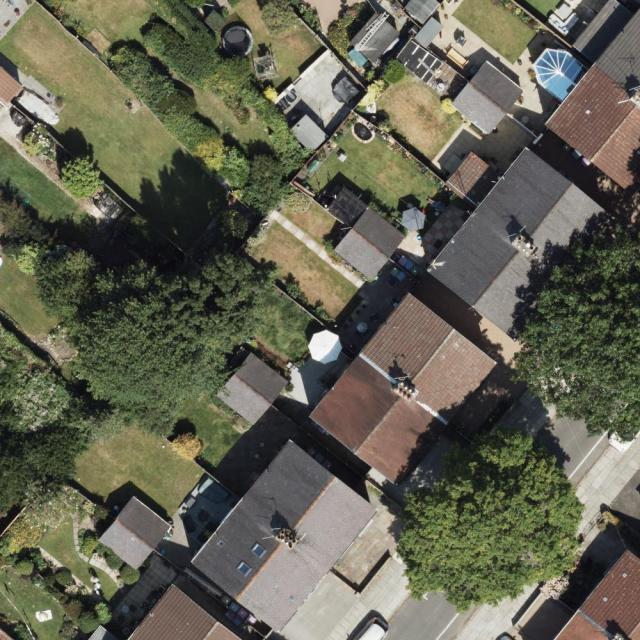roof: (422, 147, 618, 351), (304, 288, 501, 488), (186, 436, 379, 639), (533, 0, 640, 200), (551, 543, 640, 640), (122, 584, 248, 640), (329, 203, 411, 288), (214, 347, 295, 428), (95, 492, 178, 571), (451, 59, 529, 136)
skylight: (534, 43, 596, 104), (235, 560, 254, 577), (254, 540, 268, 558)
